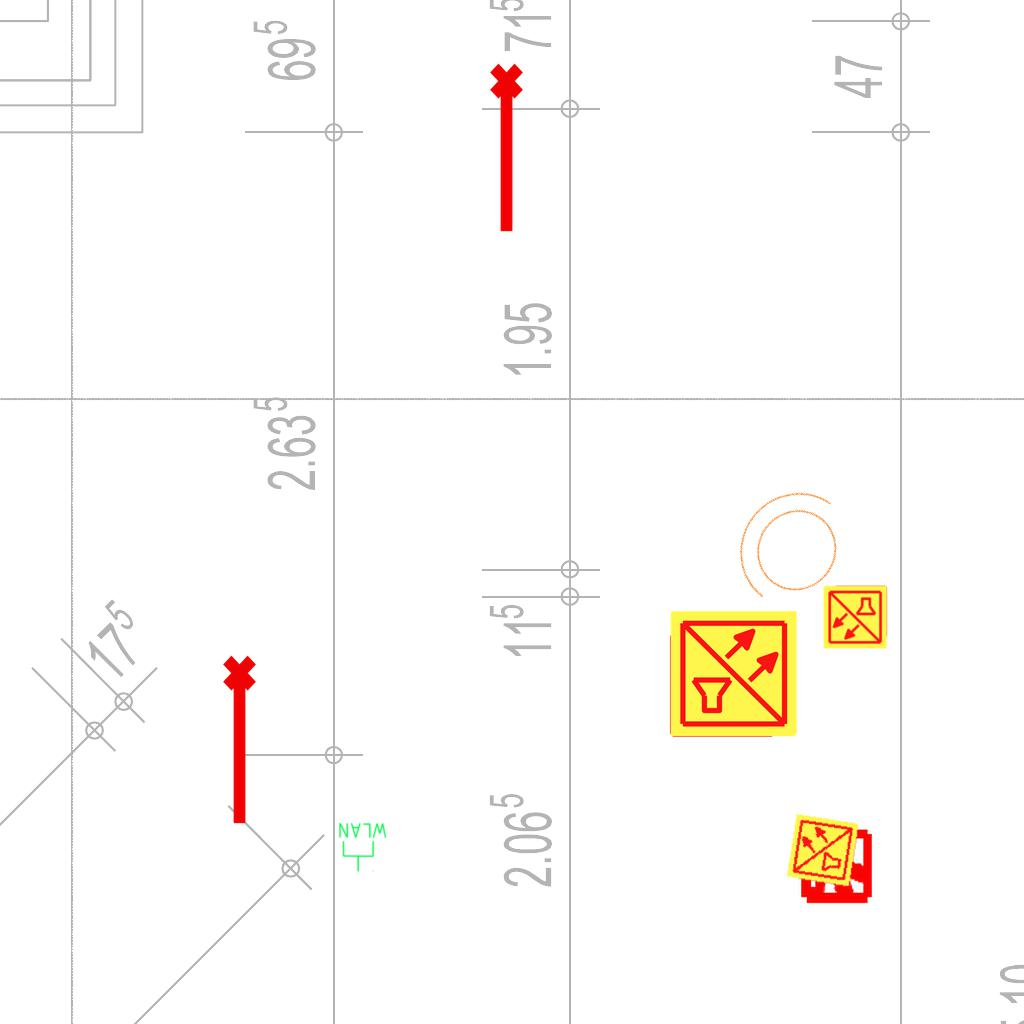ASR_Ansaugoeffnung: (219, 653, 265, 829), (486, 61, 532, 237)
OKW_Multisensormelder_(Kombination_optischer_Rauch-Kahlenmonoxid_Waerme-Melder): (668, 608, 800, 740), (785, 812, 861, 888), (822, 584, 888, 650)
OT_Multisensormelder_(Kombination_RMO_WMD): (780, 812, 893, 925)
Scheinwerfer_fuer_Alarmbeleuchtung: (706, 463, 876, 637)
WLAN: (337, 821, 389, 873)
